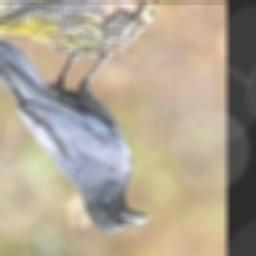Crow: (0, 38, 150, 234)
